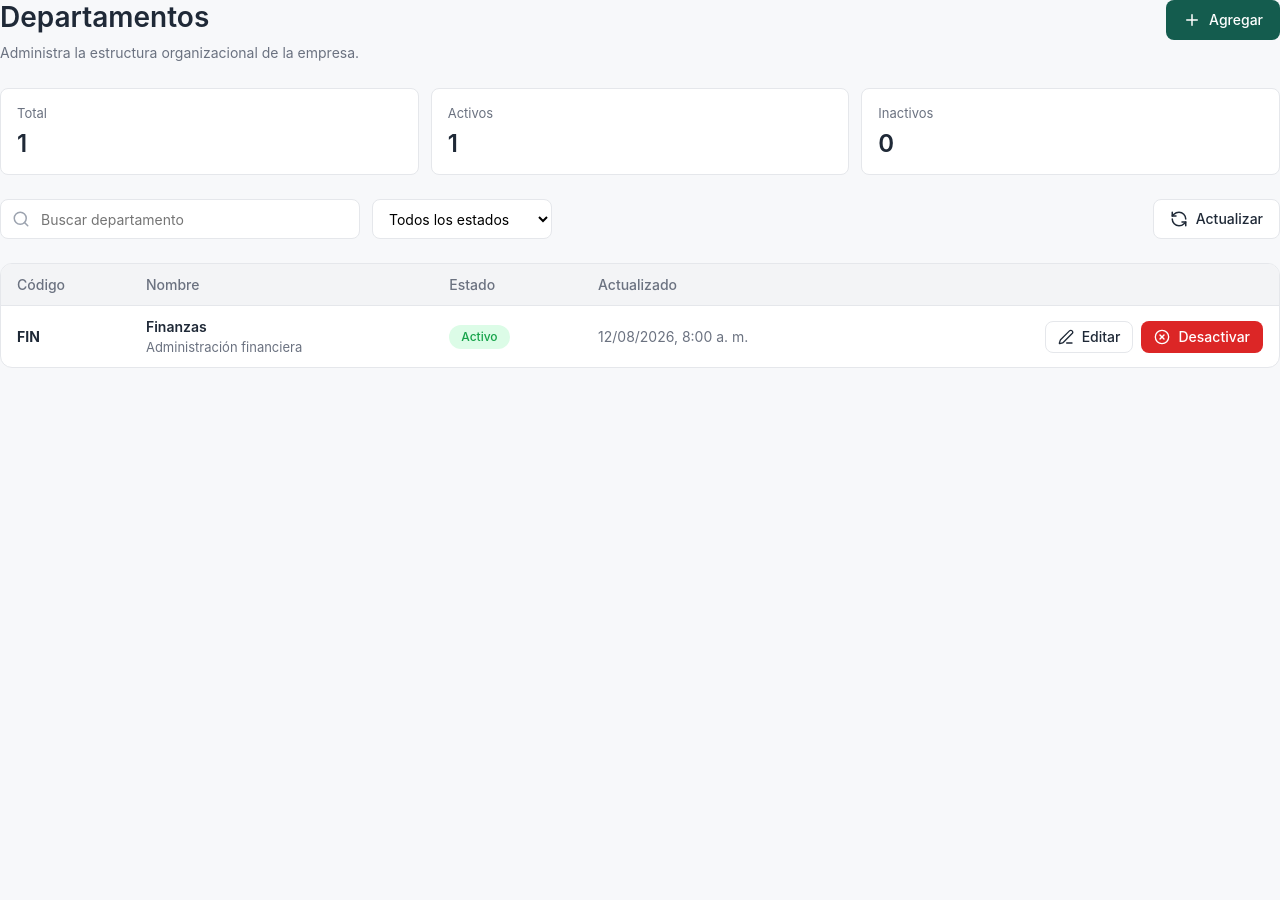
DepartmentsPage › loads departments and opens the create form
The image size is (1280, 900).
Expected: the text "Finanzas" is shown, x1=146 y1=318 x2=207 y2=335
Expected: the text "FIN" is shown, x1=17 y1=328 x2=40 y2=345
Click the button "Agregar" at (1223, 20), box x1=1166 y1=0 x2=1279 y2=40
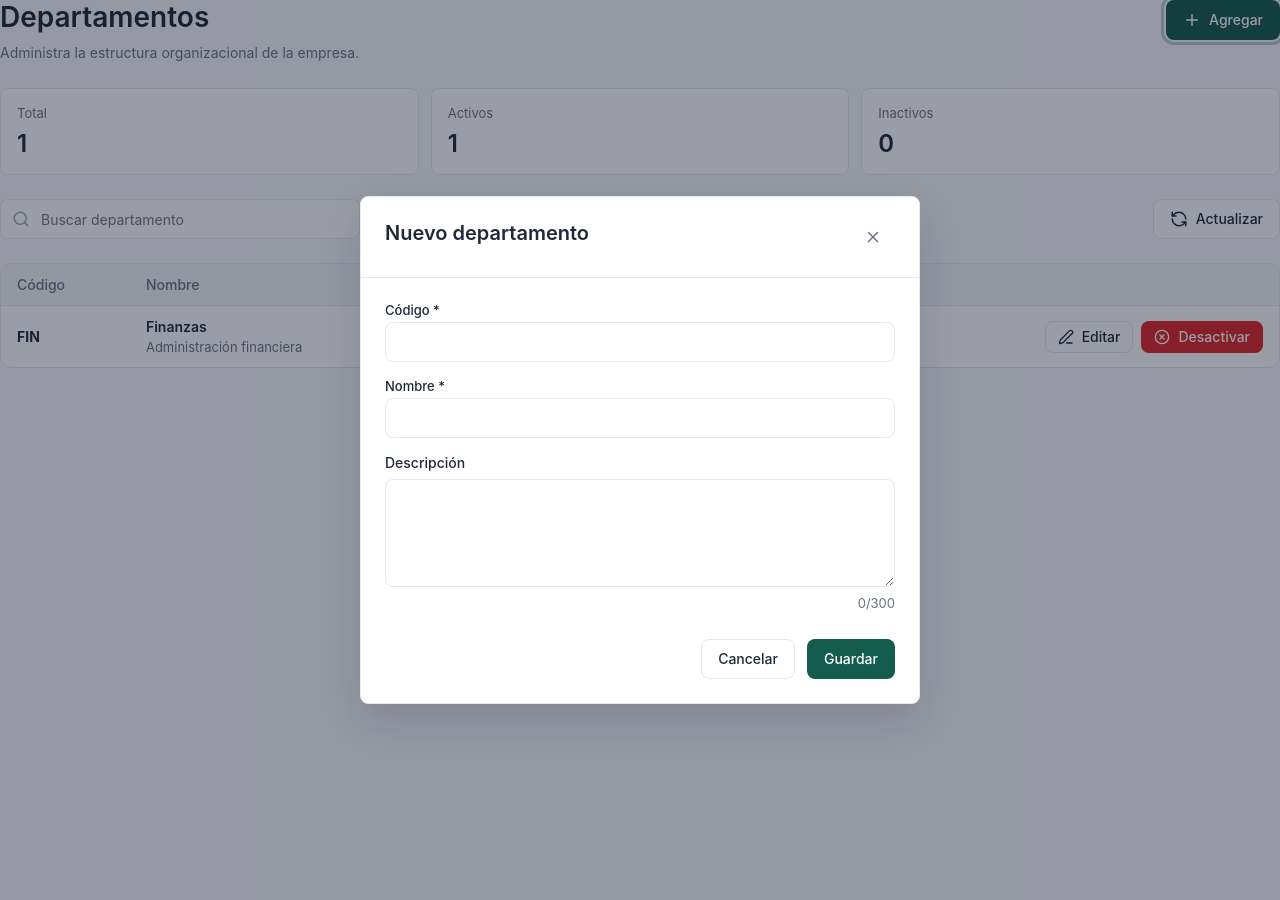
Now the dialog "Nuevo departamento" is shown, box x1=360 y1=196 x2=920 y2=704
